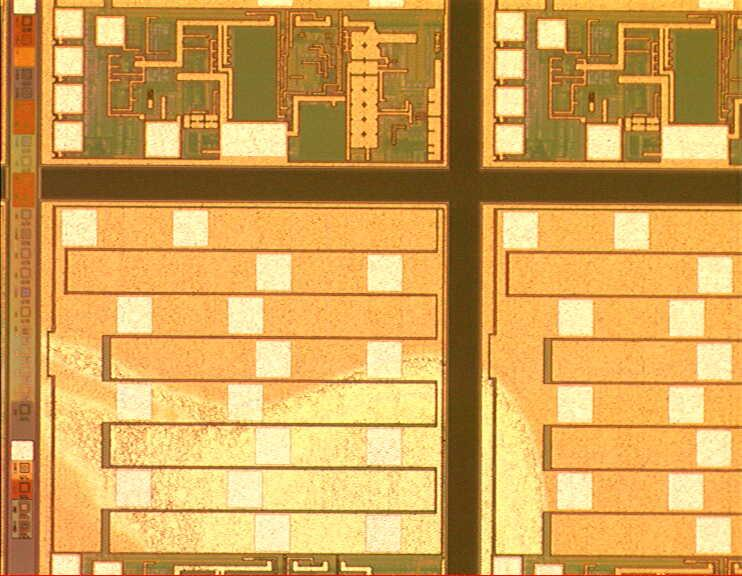COATING BAD: (1, 321, 564, 576)
